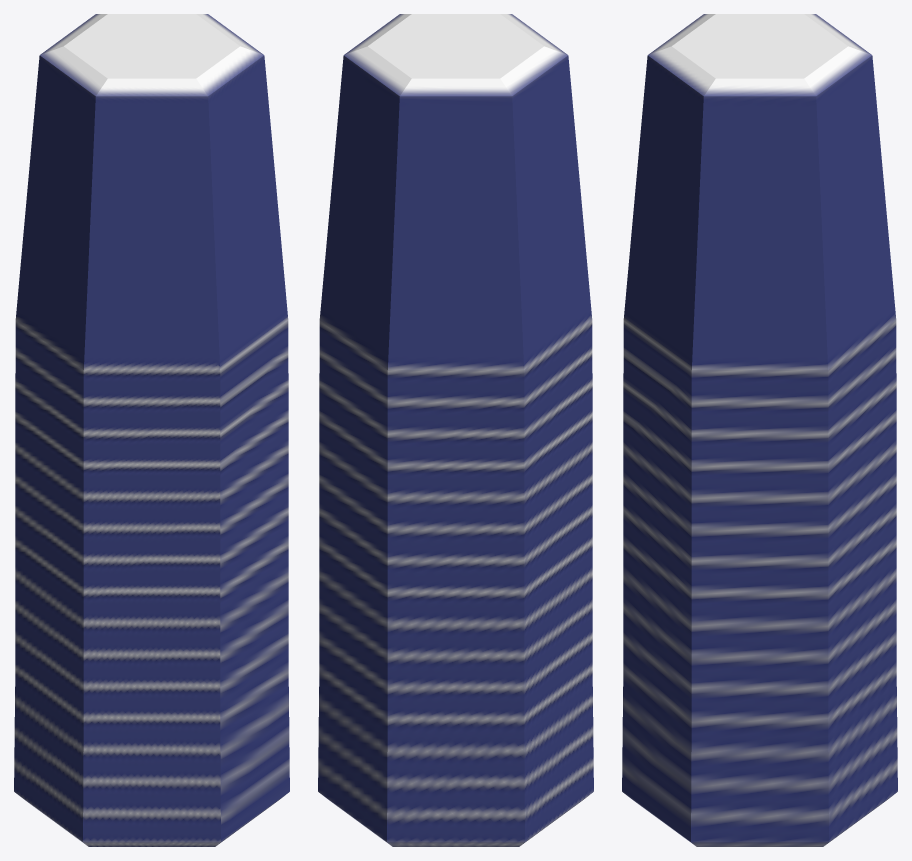
Rendered from CupBlue.fbx.
The picture shows the model from 3 angles, left to right: view 1: azimuth 30°, elevation 25°; view 2: azimuth 150°, elevation 25°; view 3: azimuth 270°, elevation 25°; orthographic projection.
Visible parts, largest first — view 1: Stack of Cups.001; view 2: Stack of Cups.001; view 3: Stack of Cups.001.
Boxes of the visible parts, box(x1,y1,x2,y2) form: Stack of Cups.001: box(14, 14, 289, 846); Stack of Cups.001: box(318, 14, 593, 846); Stack of Cups.001: box(622, 14, 897, 846).
Size of the model in its own units: 0.2666 by 0.9284 by 0.3078.
Materials: 1 (1 with a texture image).
